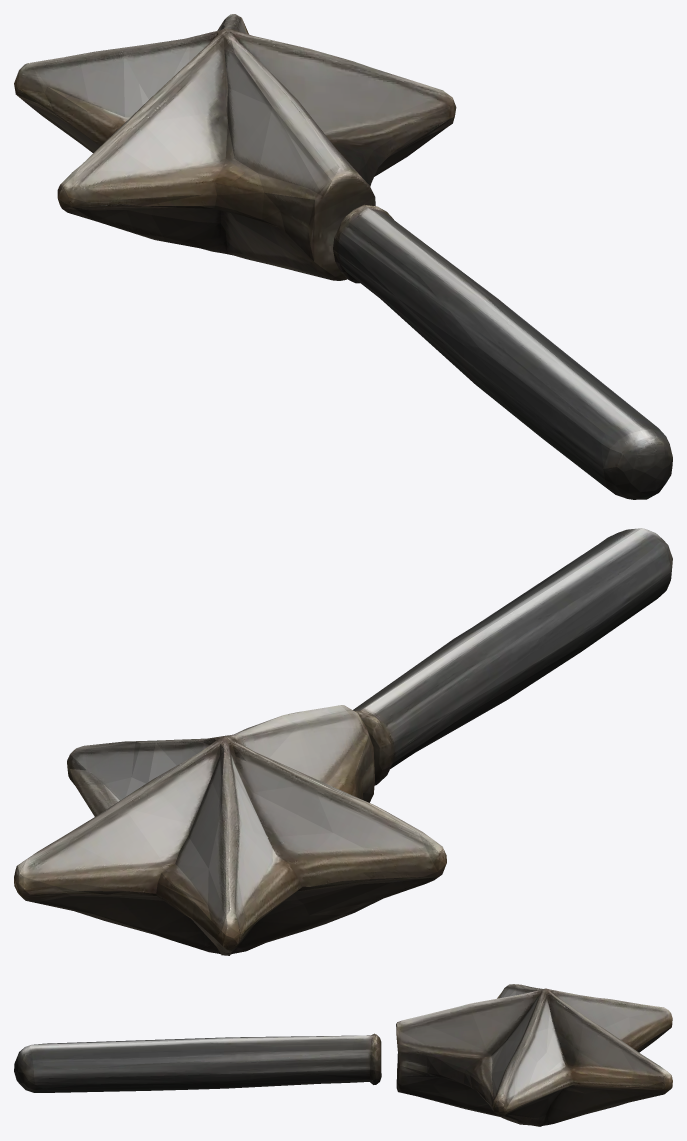
File: magic-wand.glb
3 views of the same model, one above another, from view 1: azimuth 30°, elevation 25°; view 2: azimuth 150°, elevation 25°; view 3: azimuth 270°, elevation 25° (orthographic). The views are drawn at different scales.
Parts seen in each view (by area): view 1: world; view 2: world; view 3: world.
Boxes of the visible parts, x1,y1,x2,y2 form: world: [14, 14, 672, 499]; world: [14, 528, 672, 955]; world: [14, 984, 672, 1126].
Bounding box in the file's own units: 0.419 × 0.2297 × 0.9984.
Materials: 1 (1 with a texture image).
